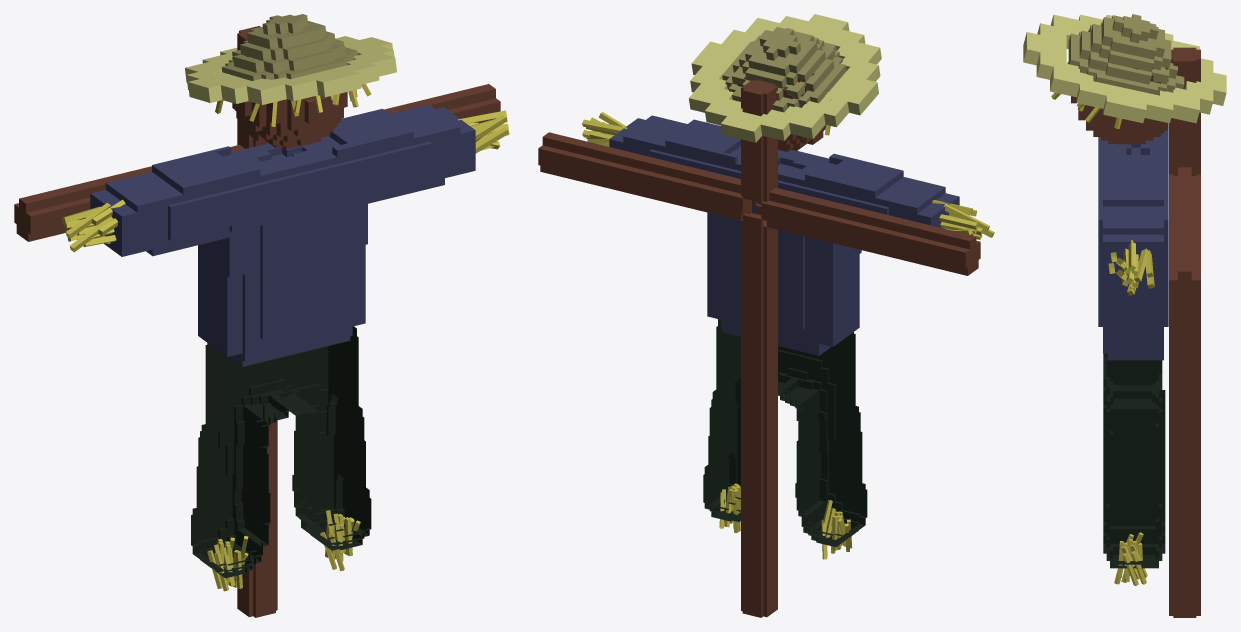
File: ScarecrowFixed.fbx
The picture shows the model from 3 angles, left to right: view 1: azimuth 30°, elevation 25°; view 2: azimuth 150°, elevation 25°; view 3: azimuth 270°, elevation 25°; orthographic projection. The views are drawn at different scales.
Parts seen in each view (by area): view 1: Scarecrow; view 2: Scarecrow; view 3: Scarecrow.
Boxes of the visible parts, x1,y1,x2,y2 form: Scarecrow: (14,14,509,617); Scarecrow: (538,14,994,617); Scarecrow: (1023,14,1226,617).
Bounding box in the file's own units: 469 × 584 × 182.
